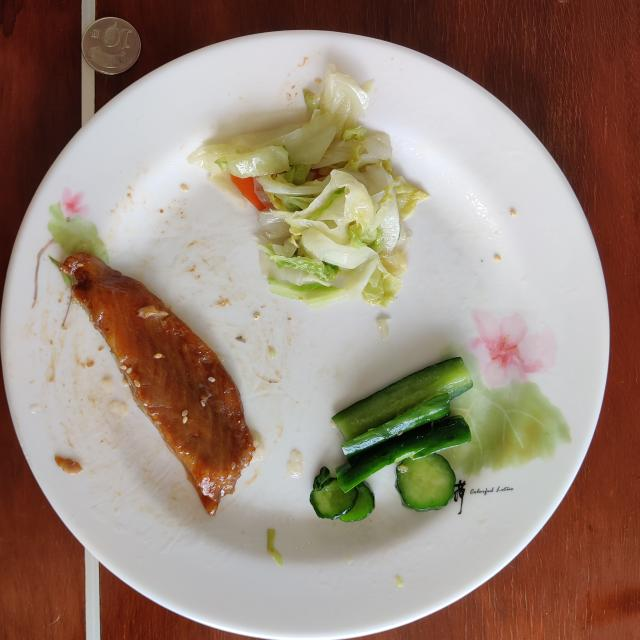Kabayaki sea bream fillet: (60, 254, 255, 515)
cabbage: (189, 64, 428, 308)
coin: (81, 18, 140, 75)
cucumber: (310, 358, 472, 522)
